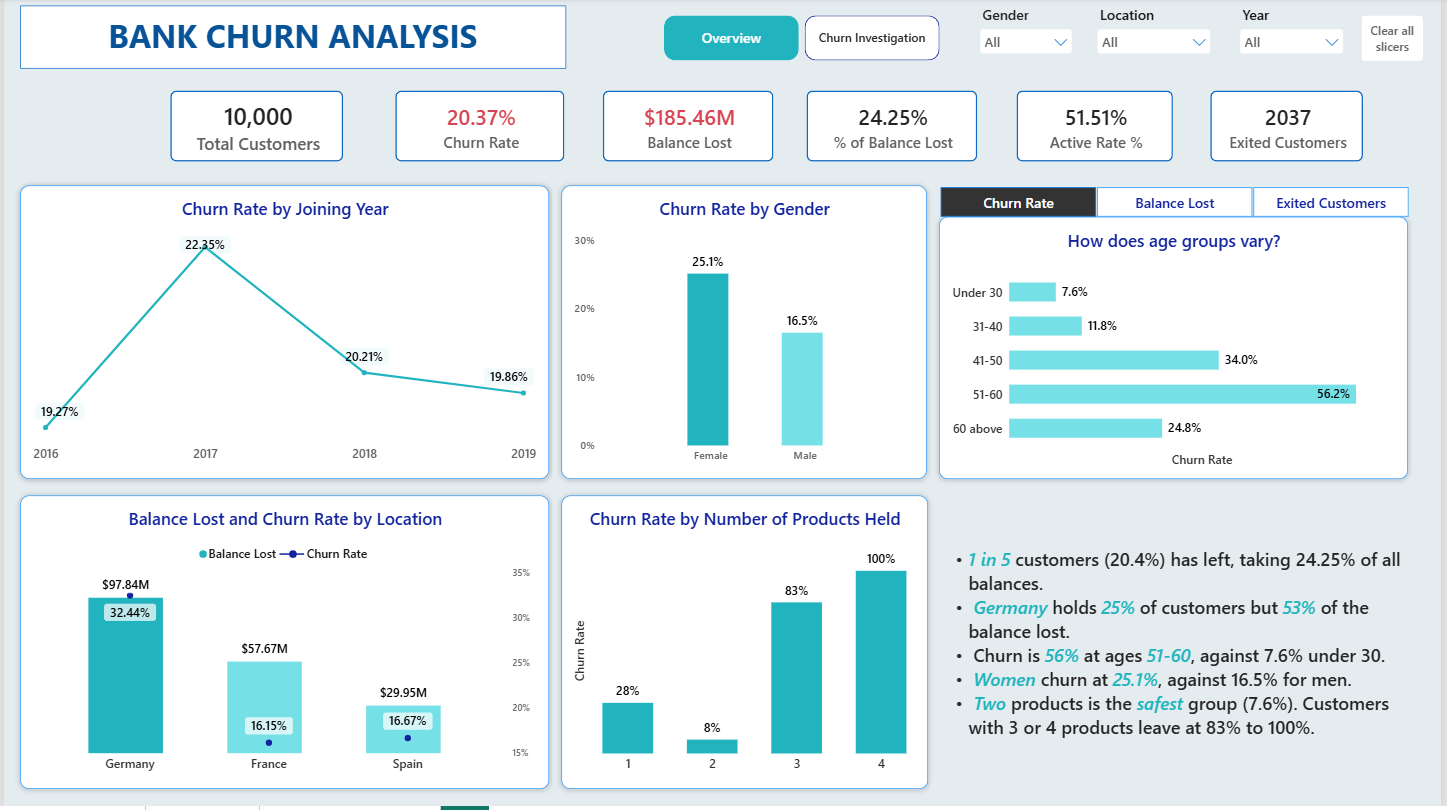

This screenshot's page, from the dashboard's own definition file:
{"tool":"powerbi","page":{"name":"Overview","canvas":[1920,1080],"ordinal":1},"visuals":[{"type":"shape","box":[21.6,10.8,729.3,84.4],"z":0},{"type":"textbox","box":[67.1,19.5,638,70],"z":1000},{"type":"cardVisual","fields":{"Data":["_Measures.Total Customers"]},"box":[222.6,123.1,231.6,95.9],"z":2000},{"type":"cardVisual","fields":{"Data":["_Measures.Exited Customers"]},"box":[1610.6,123.1,204.5,95.9],"z":3000},{"type":"cardVisual","fields":{"Data":["_Measures.Inactive Rate %"]},"box":[1351.8,123.1,209.9,95.9],"z":4000},{"type":"lineStackedColumnComboChart","title":"Balance Lost and  Churn Rate by Location","fields":{"Category":["dim_geography.GeographyLocation"],"Y":["_Measures.Balance Lost"],"Y2":["_Measures.Churn Rate"]},"box":[22.1,664.4,706.8,392],"z":5000},{"type":"barChart","title":"How does age groups vary?","fields":{"Category":["fact_bank_churn.AgeGroup"],"Y":["_Measures.Churn Rate"]},"box":[1249,292.2,626.2,350.7],"z":6000},{"type":"actionButton","box":[1813.6,23.8,82.2,60.6],"z":7000},{"type":"slicer","fields":{"Values":["dim_gender.GenderCategory"]},"box":[1298.5,10.8,132,84.4],"z":8000},{"type":"slicer","fields":{"Values":["dim_geography.GeographyLocation"]},"box":[1456.5,10.8,160.1,84.4],"z":9000},{"type":"lineChart","title":"Churn Rate by Joining Year","fields":{"Category":["Date.Date.Variation.Date Hierarchy.Year","Date.Date.Variation.Date Hierarchy.Quarter","Date.Date.Variation.Date Hierarchy.Month"],"Y":["_Measures.Churn Rate"]},"box":[21.7,250.5,706.3,392.4],"z":10000},{"type":"cardVisual","fields":{"Data":["_Measures.Churn Rate"]},"box":[523,123.1,226.2,95.9],"z":11000},{"type":"cardVisual","fields":{"Data":["_Measures.Balance Lost"]},"box":[799.9,123.1,228,95.9],"z":12000},{"type":"cardVisual","fields":{"Data":["_Measures.% of Balance Lost"]},"box":[1071.3,123.1,228,95.9],"z":13000},{"type":"slicer","fields":{"Values":["Date.Year"]},"box":[1646.9,10.8,147.2,84.4],"z":14000},{"type":"columnChart","title":"Churn Rate by Gender","fields":{"Category":["dim_gender.GenderCategory"],"Y":["_Measures.Churn Rate"]},"box":[745.4,250.3,487.7,392],"z":15000},{"type":"columnChart","title":"Churn Rate by Number of Products Held","fields":{"Category":["fact_bank_churn.NumOfProducts"],"Y":["_Measures.Churn Rate"]},"box":[744.7,664.6,489.2,392.4],"z":16000},{"type":"textbox","box":[1252.3,714.7,625.8,342.3],"z":17000},{"type":"slicer","fields":{"Values":["Parameter.Parameter"]},"box":[1230.6,250.5,664.6,43.4],"z":18000},{"type":"pageNavigator","box":[881.6,23.9,369.9,60.7],"z":19000}]}

Visuals, with their boxes in screenshot pixels (x1, y1, x2, y2), scaled from the page's 1920x1080 canvas onto the 1447x810 screenshot:
shape: 16:8:566:71
textbox: 51:15:531:67
cardVisual - _Measures.Total Customers: 168:92:342:164
cardVisual - _Measures.Exited Customers: 1214:92:1368:164
cardVisual - _Measures.Inactive Rate %: 1019:92:1177:164
"Balance Lost and  Churn Rate by Location" lineStackedColumnComboChart: 17:498:549:792
"How does age groups vary?" barChart: 941:219:1413:482
actionButton: 1367:18:1429:63
slicer - dim_gender.GenderCategory: 979:8:1078:71
slicer - dim_geography.GeographyLocation: 1098:8:1218:71
"Churn Rate by Joining Year" lineChart: 16:188:549:482
cardVisual - _Measures.Churn Rate: 394:92:565:164
cardVisual - _Measures.Balance Lost: 603:92:775:164
cardVisual - _Measures.% of Balance Lost: 807:92:979:164
slicer - Date.Year: 1241:8:1352:71
"Churn Rate by Gender" columnChart: 562:188:929:482
"Churn Rate by Number of Products Held" columnChart: 561:498:930:793
textbox: 944:536:1415:793
slicer - Parameter.Parameter: 927:188:1428:220
pageNavigator: 664:18:943:63
